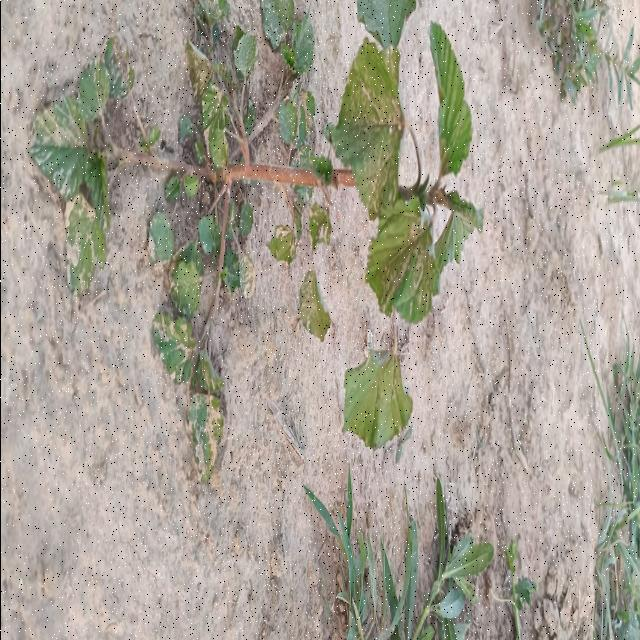plant: (328, 0, 481, 323), (344, 331, 411, 449)
